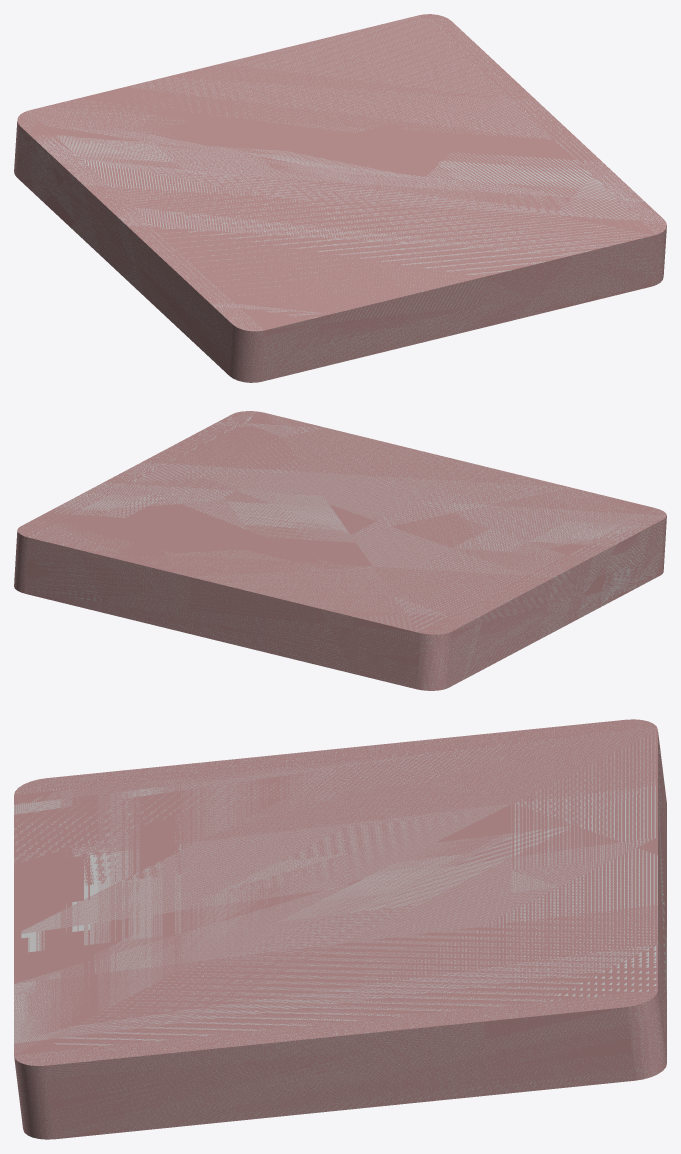
The model's file is original-24.obj.
3 views of the same model, one above another, from view 1: azimuth 30°, elevation 25°; view 2: azimuth 150°, elevation 25°; view 3: azimuth 270°, elevation 25° (orthographic). The views are drawn at different scales.
Parts seen in each view (by area): view 1: mesh23/mesh23-geometry#mesh23-geometry; view 2: mesh23/mesh23-geometry#mesh23-geometry; view 3: mesh23/mesh23-geometry#mesh23-geometry.
Boxes of the visible parts, x1,y1,x2,y2 form: mesh23/mesh23-geometry#mesh23-geometry: [14, 14, 666, 382]; mesh23/mesh23-geometry#mesh23-geometry: [14, 411, 666, 690]; mesh23/mesh23-geometry#mesh23-geometry: [14, 719, 666, 1139].
Size of the model in its own units: 0.1061 by 0.0238 by 0.1019.
